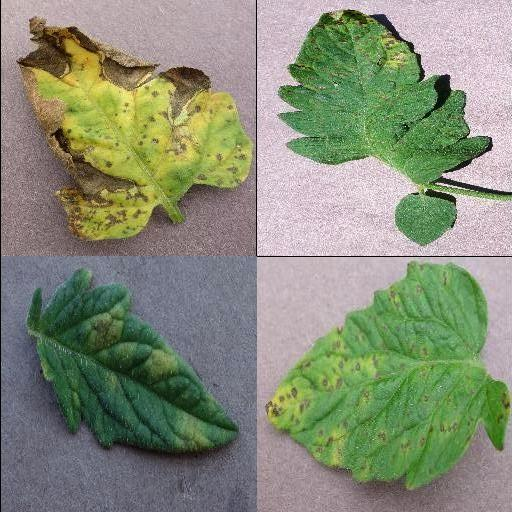Healthy: (396, 194, 458, 246)
Leaf Mold: (25, 270, 241, 450)
Septoria: (266, 260, 512, 489), (19, 18, 255, 242), (277, 8, 492, 182)
